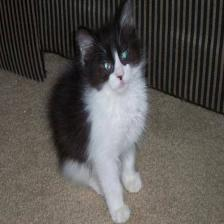cat: (73, 2, 152, 102)
